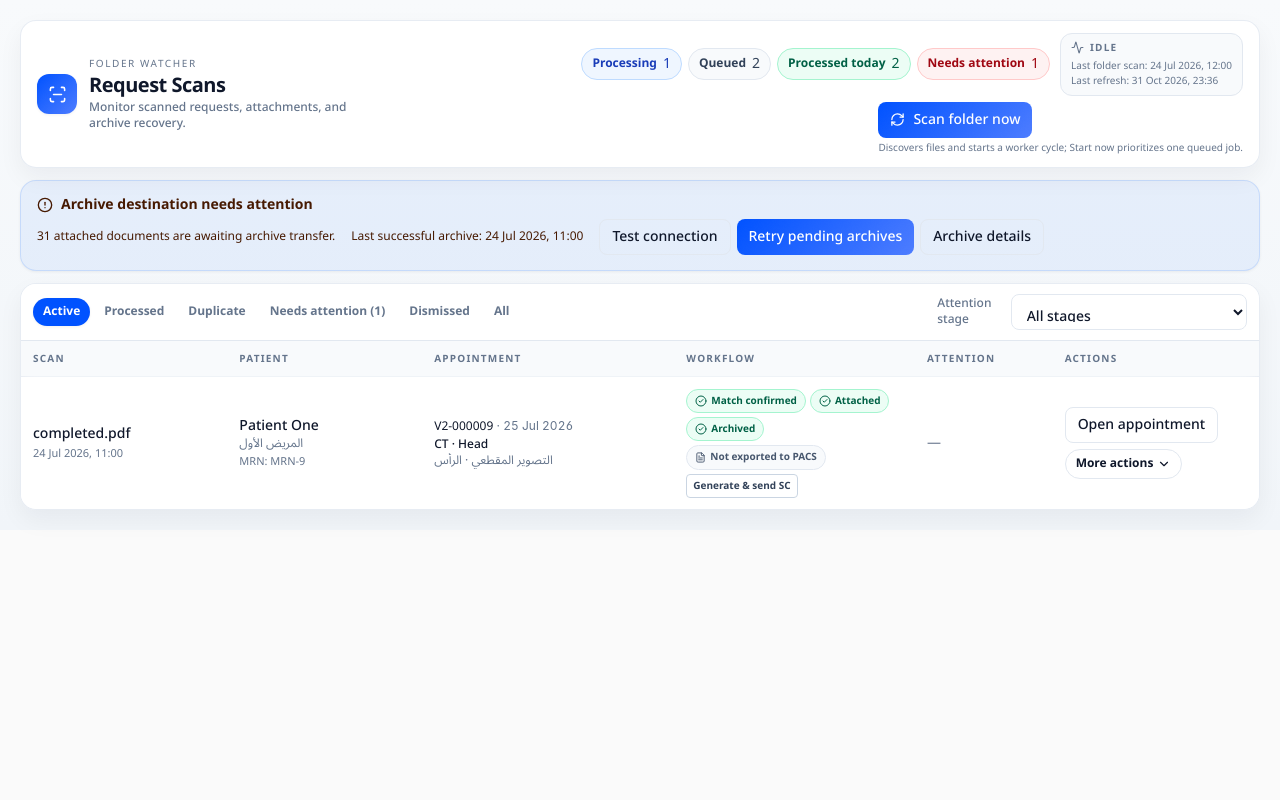
Test case: RequestScansPage › confirms missing-export generation before POST and refetches Request Scan data after success
Click the button "Generate & send SC".
click(742, 486)  # box [686, 474, 798, 498]
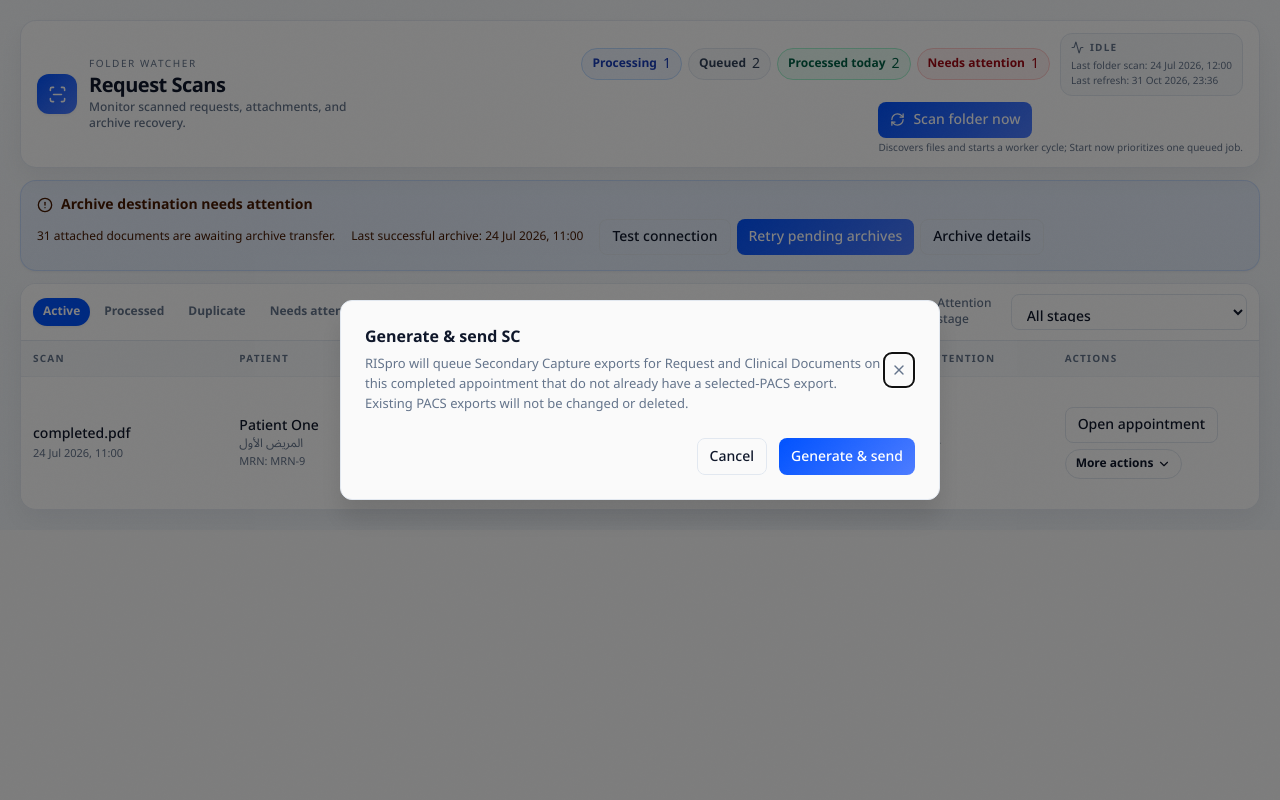
Expected: the text "Existing PACS exports will not be changed or deleted" is shown, [365, 350, 880, 418]
Expected: the button "Cancel" is shown, [697, 438, 767, 475]
Click the button "Generate & send".
click(847, 457)  # box [779, 438, 915, 475]
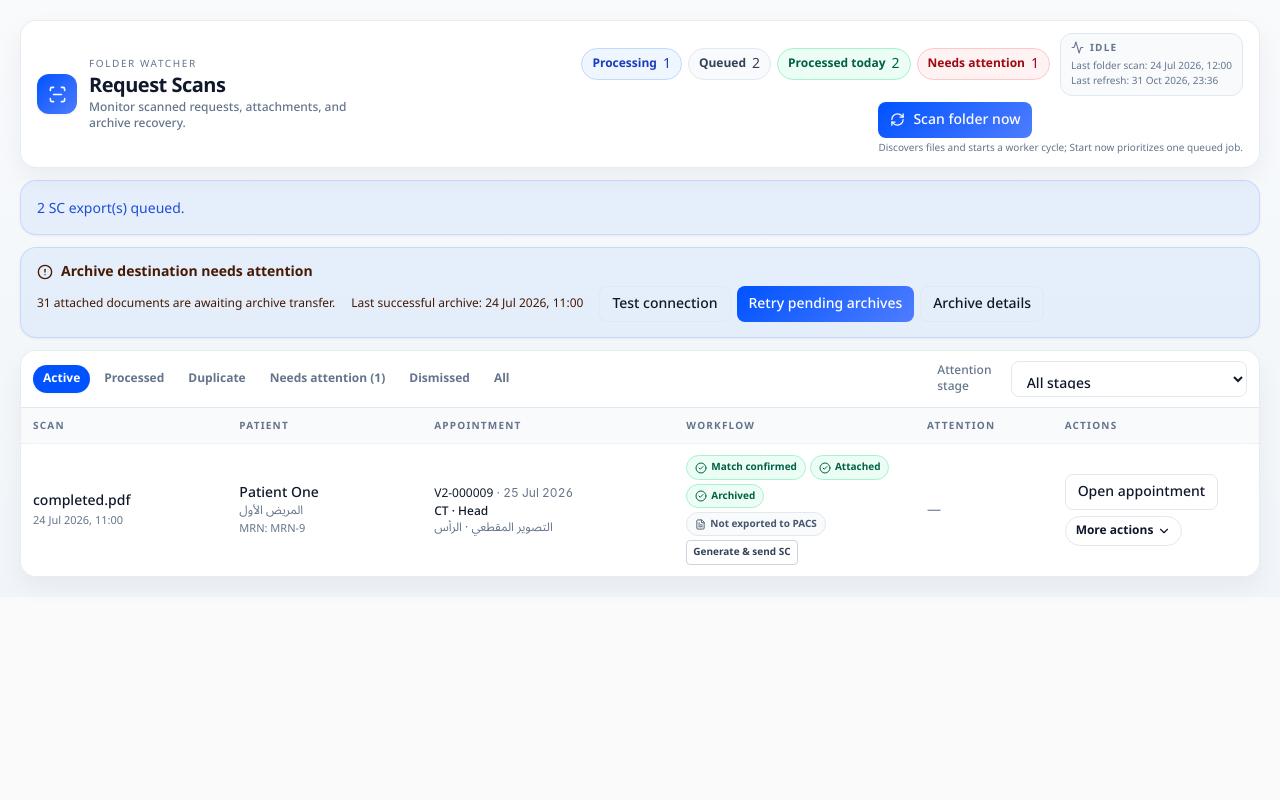
Expected: the text "2 SC export(s) queued." is shown, [37, 194, 185, 223]
